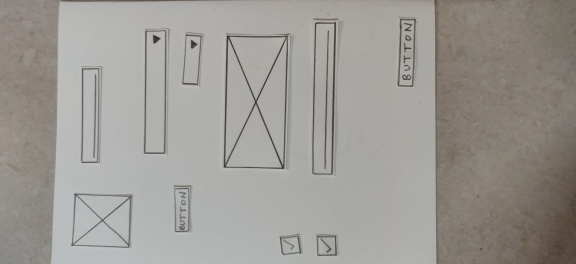button: (398, 18, 417, 92), (170, 183, 193, 233)
checkbox: (277, 234, 303, 254), (314, 233, 336, 256)
dropdown: (144, 27, 167, 155), (182, 31, 200, 90)
img: (223, 29, 287, 169), (68, 190, 137, 249)
text: (309, 19, 340, 179), (78, 66, 104, 164)
